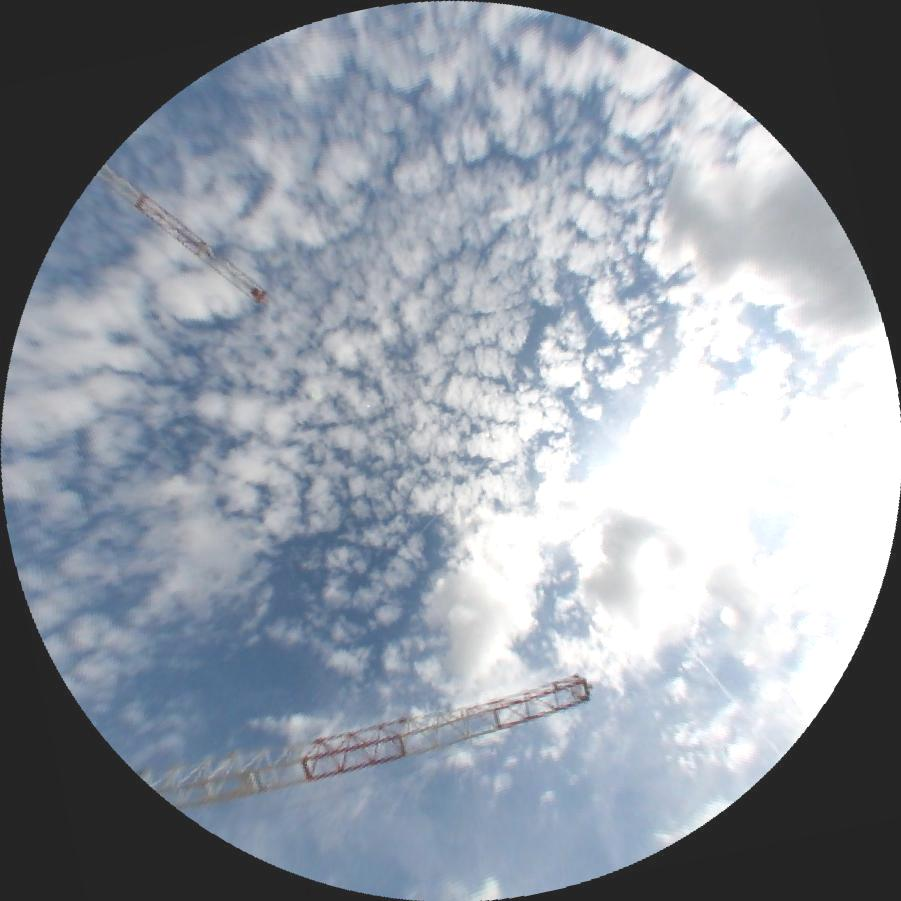contrail old: (419, 283, 629, 536), (681, 638, 782, 758)
